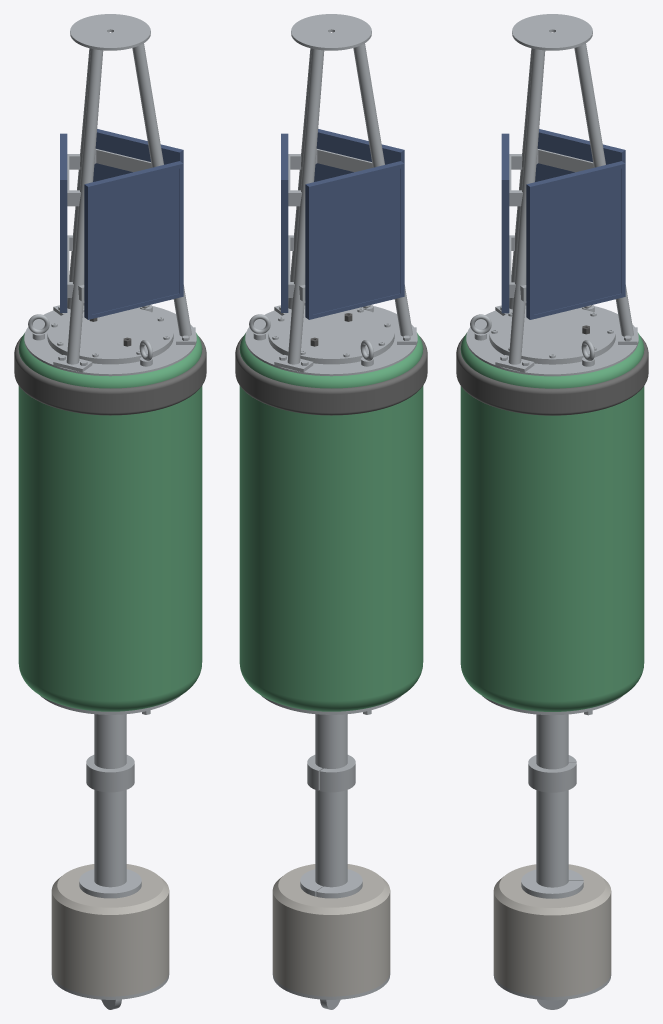
Rendered from step_04.glb.
The picture shows the model from 3 angles, left to right: view 1: azimuth 30°, elevation 25°; view 2: azimuth 150°, elevation 25°; view 3: azimuth 270°, elevation 25°; orthographic projection.
Parts seen in each view (by area): view 1: part__float hull, part__solar panel 1, part__ballast ring, part__fender ring, part__tail tube, part__hatch lid, part__tripod leg 2, part__deck plate, part__mast top plate, part__tripod leg 3, part__solar panel 2, part__solar panel 3 (+6 smaller); view 2: part__float hull, part__solar panel 3, part__ballast ring, part__fender ring, part__tail tube, part__hatch lid, part__tripod leg 1, part__deck plate, part__mast top plate, part__tripod leg 2, part__solar panel 1, part__solar panel 2 (+6 smaller); view 3: part__float hull, part__solar panel 2, part__ballast ring, part__fender ring, part__tail tube, part__hatch lid, part__tripod leg 3, part__deck plate, part__mast top plate, part__tripod leg 1, part__solar panel 3, part__solar panel 1 (+6 smaller).
Boxes of the visible parts, x1=… form: part__float hull: x1=18, y1=333, x2=202, y2=711; part__solar panel 1: x1=84, y1=161, x2=183, y2=319; part__ballast ring: x1=51, y1=864, x2=169, y2=996; part__fender ring: x1=14, y1=336, x2=206, y2=415; part__tail tube: x1=51, y1=714, x2=169, y2=999; part__hatch lid: x1=47, y1=308, x2=173, y2=361; part__tripod leg 2: x1=53, y1=48, x2=103, y2=372; part__deck plate: x1=24, y1=306, x2=196, y2=376; part__mast top plate: x1=70, y1=14, x2=150, y2=50; part__tripod leg 3: x1=132, y1=43, x2=195, y2=344; part__solar panel 2: x1=93, y1=129, x2=183, y2=181; part__solar panel 3: x1=60, y1=133, x2=67, y2=312; part__float hull: x1=239, y1=333, x2=423, y2=711; part__solar panel 3: x1=305, y1=161, x2=404, y2=319; part__ballast ring: x1=272, y1=864, x2=390, y2=996; part__fender ring: x1=235, y1=336, x2=427, y2=415; part__tail tube: x1=272, y1=714, x2=390, y2=999; part__hatch lid: x1=268, y1=308, x2=394, y2=361; part__tripod leg 1: x1=274, y1=48, x2=324, y2=372; part__deck plate: x1=245, y1=306, x2=417, y2=376; part__mast top plate: x1=291, y1=14, x2=371, y2=50; part__tripod leg 2: x1=353, y1=43, x2=416, y2=344; part__solar panel 1: x1=314, y1=129, x2=404, y2=181; part__solar panel 2: x1=281, y1=133, x2=288, y2=312; part__float hull: x1=460, y1=333, x2=644, y2=711; part__solar panel 2: x1=526, y1=161, x2=625, y2=319; part__ballast ring: x1=493, y1=864, x2=611, y2=996; part__fender ring: x1=456, y1=336, x2=648, y2=415; part__tail tube: x1=493, y1=714, x2=611, y2=1000; part__hatch lid: x1=489, y1=308, x2=615, y2=361; part__tripod leg 3: x1=495, y1=48, x2=545, y2=372; part__deck plate: x1=466, y1=306, x2=638, y2=376; part__mast top plate: x1=512, y1=14, x2=592, y2=50; part__tripod leg 1: x1=574, y1=43, x2=637, y2=344; part__solar panel 3: x1=535, y1=129, x2=625, y2=181; part__solar panel 1: x1=501, y1=133, x2=509, y2=313.
Size of the model in its own units: 524 by 2937 by 524.
